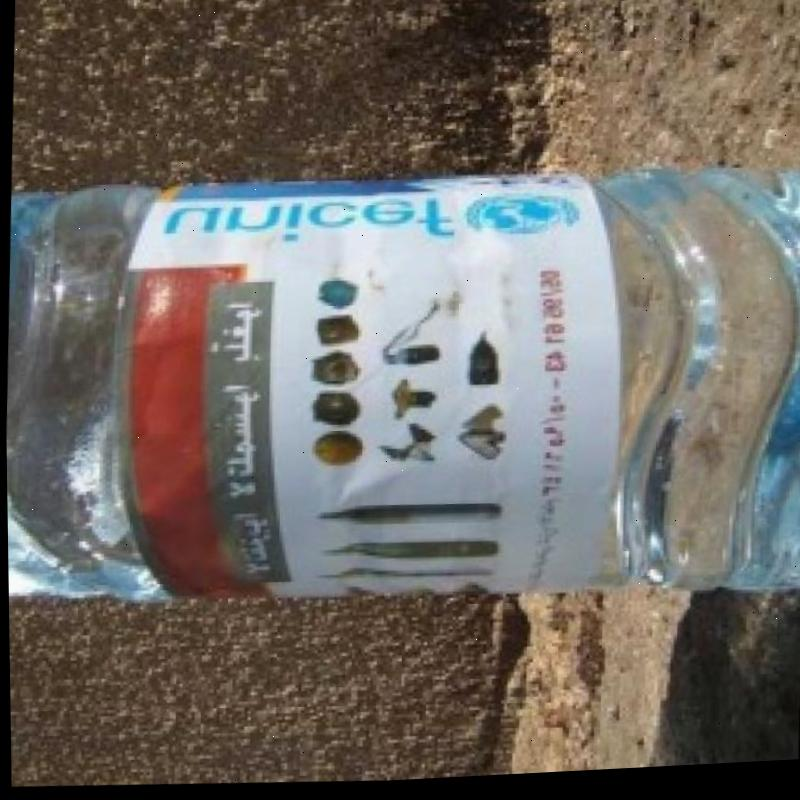botella: (2, 148, 800, 638)
